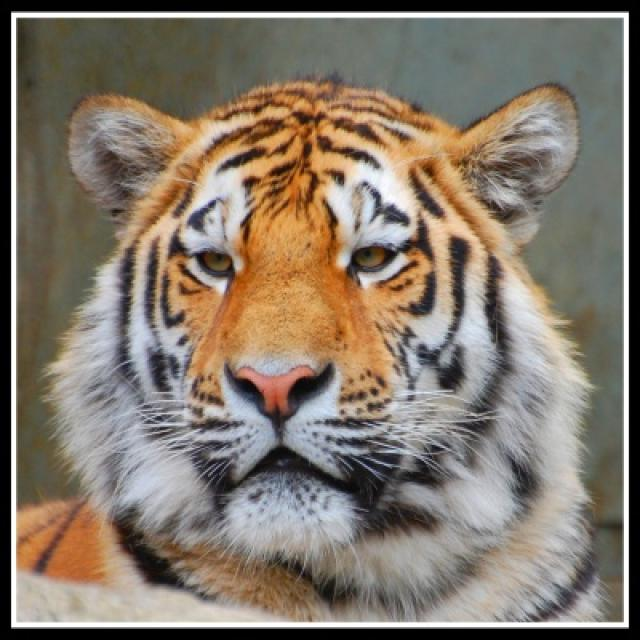Tiger: (9, 77, 612, 624)
